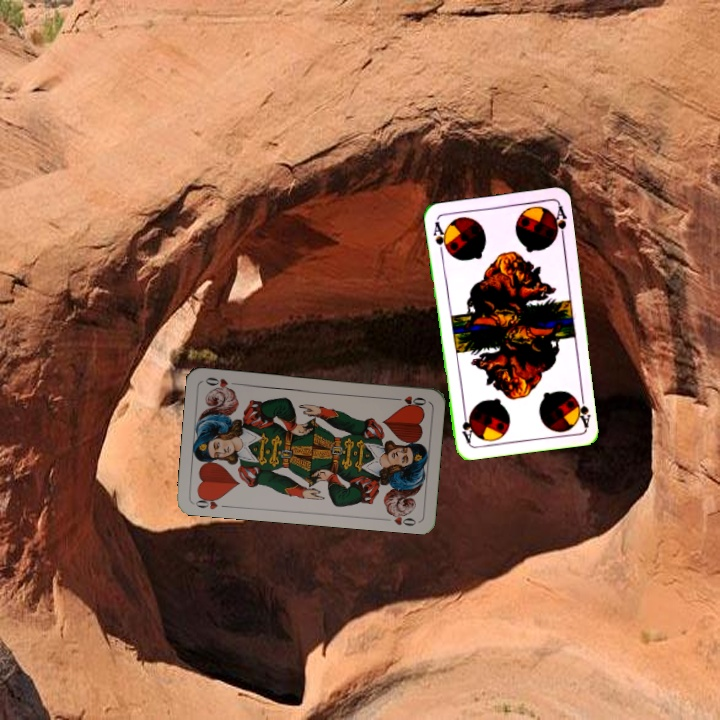HO: (191, 491, 231, 512), (389, 392, 428, 408)
SA: (571, 389, 593, 429), (429, 218, 451, 257)
